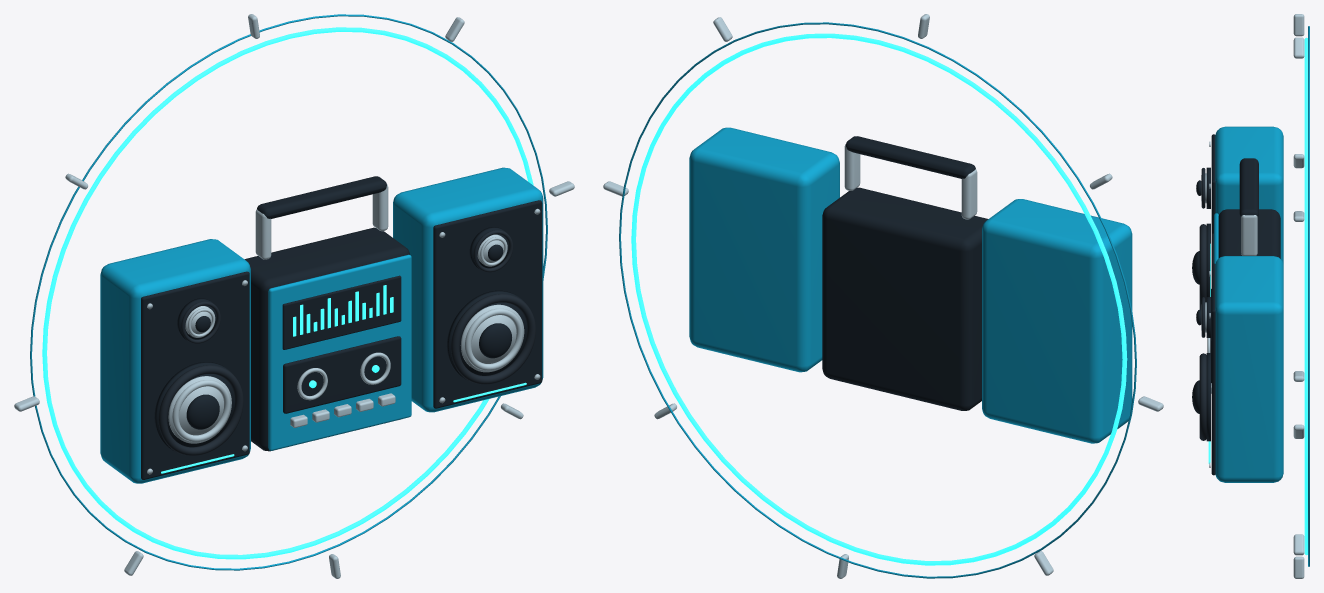
Rendered from tde-sound-stage.glb.
The picture shows the model from 3 angles, left to right: view 1: azimuth 30°, elevation 25°; view 2: azimuth 150°, elevation 25°; view 3: azimuth 270°, elevation 25°; orthographic projection. The views are drawn at different scales.
Parts seen in each view (by area): view 1: SpeakerLeft / blue cabinet, SpeakerRight / front baffle, SpeakerLeft / front baffle, Blue face, SpeakerRight / blue cabinet, Control deck, Sound wave, Tape deck, Display glass, Outer sound wave, Rubber suspension, Rubber suspension.002 (+10 smaller); view 2: SpeakerLeft / blue cabinet, Control deck, SpeakerRight / blue cabinet, Sound wave, Outer sound wave, Carry handle, Handle upright; view 3: SpeakerRight / blue cabinet, SpeakerLeft / blue cabinet, Control deck, Sound wave, Carry handle, Outer sound wave, SpeakerRight / front baffle, Handle upright.001, Rubber suspension.002, Rubber suspension, SpeakerLeft / front baffle, Recess.002 (+12 smaller).
Part boxes in pixels (x1,y1,x2,y2): SpeakerLeft / blue cabinet: (100, 239, 250, 483); SpeakerRight / front baffle: (433, 200, 542, 408); SpeakerLeft / front baffle: (141, 271, 249, 479); Blue face: (268, 254, 411, 450); SpeakerRight / blue cabinet: (393, 167, 543, 412); Control deck: (244, 227, 409, 451); Sound wave: (42, 27, 533, 559); Tape deck: (283, 336, 401, 413); Display glass: (282, 275, 401, 349); Outer sound wave: (30, 14, 547, 570); Rubber suspension: (158, 365, 243, 455); Rubber suspension.002: (451, 294, 535, 384); SpeakerLeft / blue cabinet: (982, 199, 1132, 443); Control deck: (822, 187, 988, 410); SpeakerRight / blue cabinet: (689, 127, 839, 372); Sound wave: (631, 33, 1127, 565); Outer sound wave: (619, 22, 1136, 578); Carry handle: (846, 136, 975, 178); Handle upright: (961, 169, 977, 219); SpeakerRight / blue cabinet: (1215, 256, 1283, 482); SpeakerLeft / blue cabinet: (1215, 126, 1283, 264); Control deck: (1218, 209, 1280, 258); Sound wave: (1304, 37, 1307, 555); Carry handle: (1239, 158, 1258, 217); Outer sound wave: (1308, 26, 1309, 566); SpeakerRight / front baffle: (1211, 263, 1215, 475); Handle upright.001: (1241, 215, 1257, 255); Rubber suspension.002: (1199, 353, 1206, 440); Rubber suspension: (1199, 224, 1206, 309); SpeakerLeft / front baffle: (1211, 134, 1215, 233); Recess.002: (1206, 353, 1210, 441).
Bounding box in the file's own units: 7.62 × 7.62 × 1.54.
